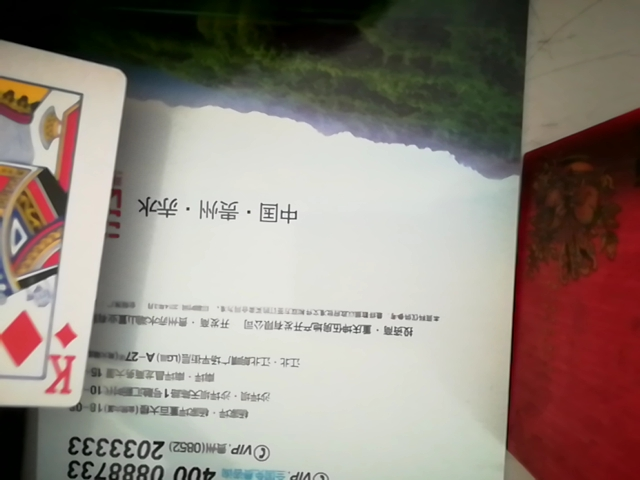fk k: (0, 47, 121, 425)
